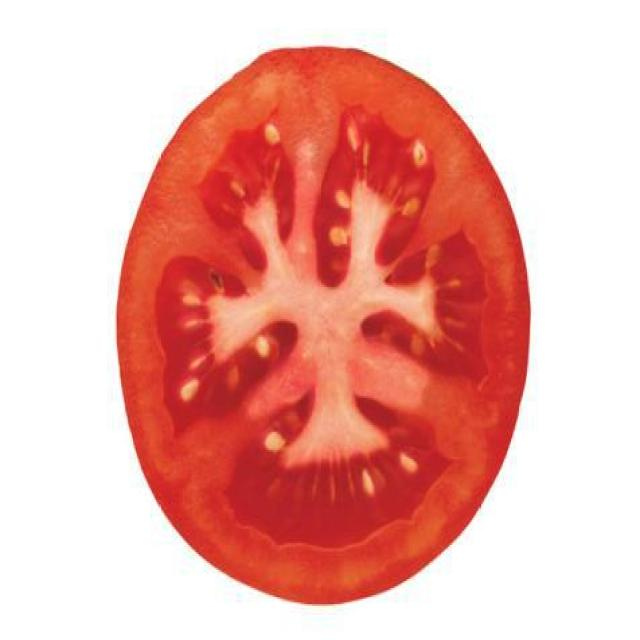Tomato: (108, 40, 538, 619)
